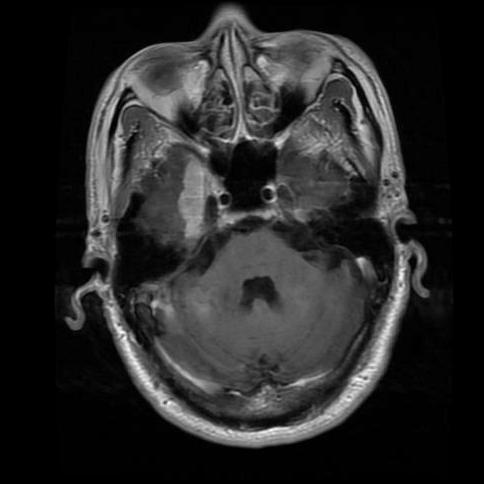Tumour-Pituitary: (166, 164, 224, 254)
